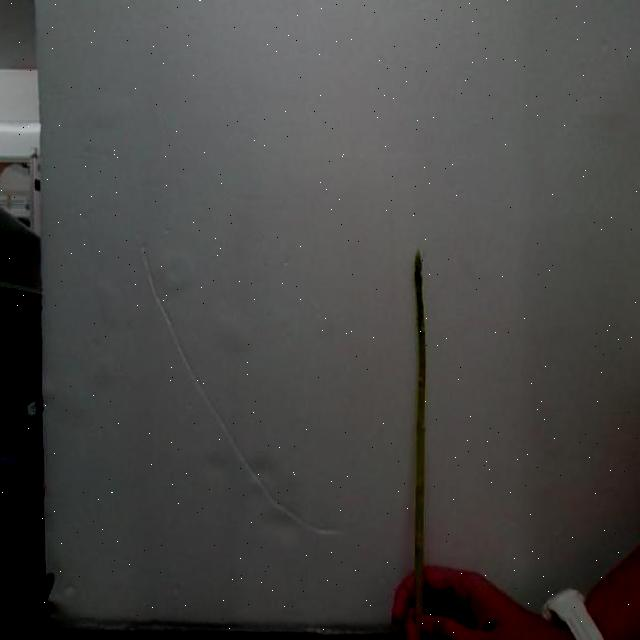aspargus: (404, 252, 429, 640)
